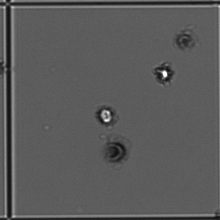Dead Cell: (104, 138, 134, 170), (172, 27, 199, 53)
Living Cell: (90, 100, 120, 129), (153, 60, 180, 87)
